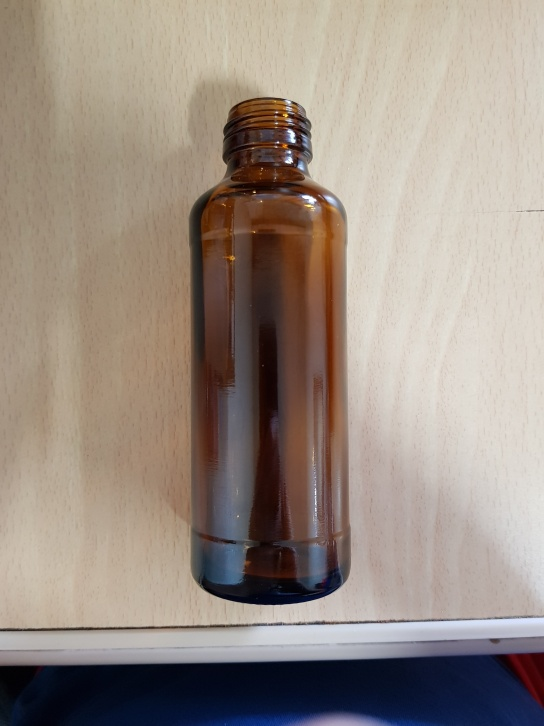Glass: (187, 96, 349, 607)
